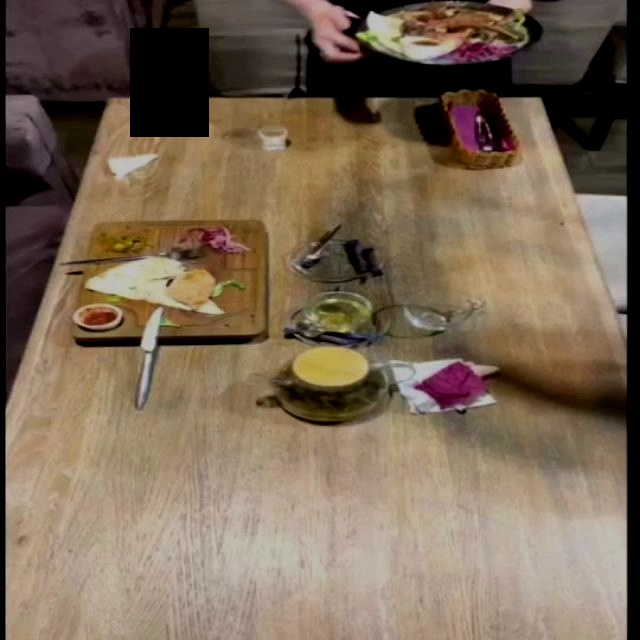meat: (68, 218, 279, 343), (377, 2, 523, 63)
tea: (277, 344, 402, 435)
